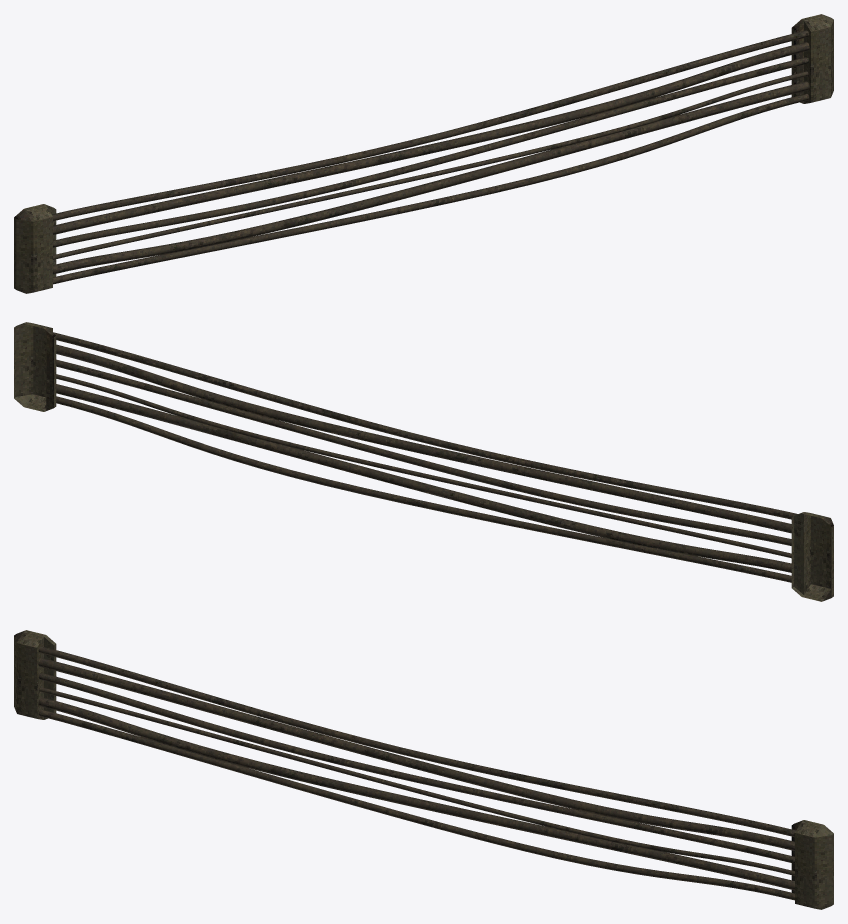
The model's file is wires_hr_1.glb.
3 views of the same model, one above another, from view 1: azimuth 30°, elevation 25°; view 2: azimuth 150°, elevation 25°; view 3: azimuth 330°, elevation 25° (orthographic).
Parts seen in each view (by area): view 1: wires_hr_1; view 2: wires_hr_1; view 3: wires_hr_1.
Boxes of the visible parts, box(x1,y1,x2,y2) form: wires_hr_1: box(14, 14, 833, 293); wires_hr_1: box(14, 322, 833, 601); wires_hr_1: box(14, 630, 833, 909).
Bounding box in the file's own units: 4.1 × 0.4469 × 0.08.
Materials: 1 (1 with a texture image).
